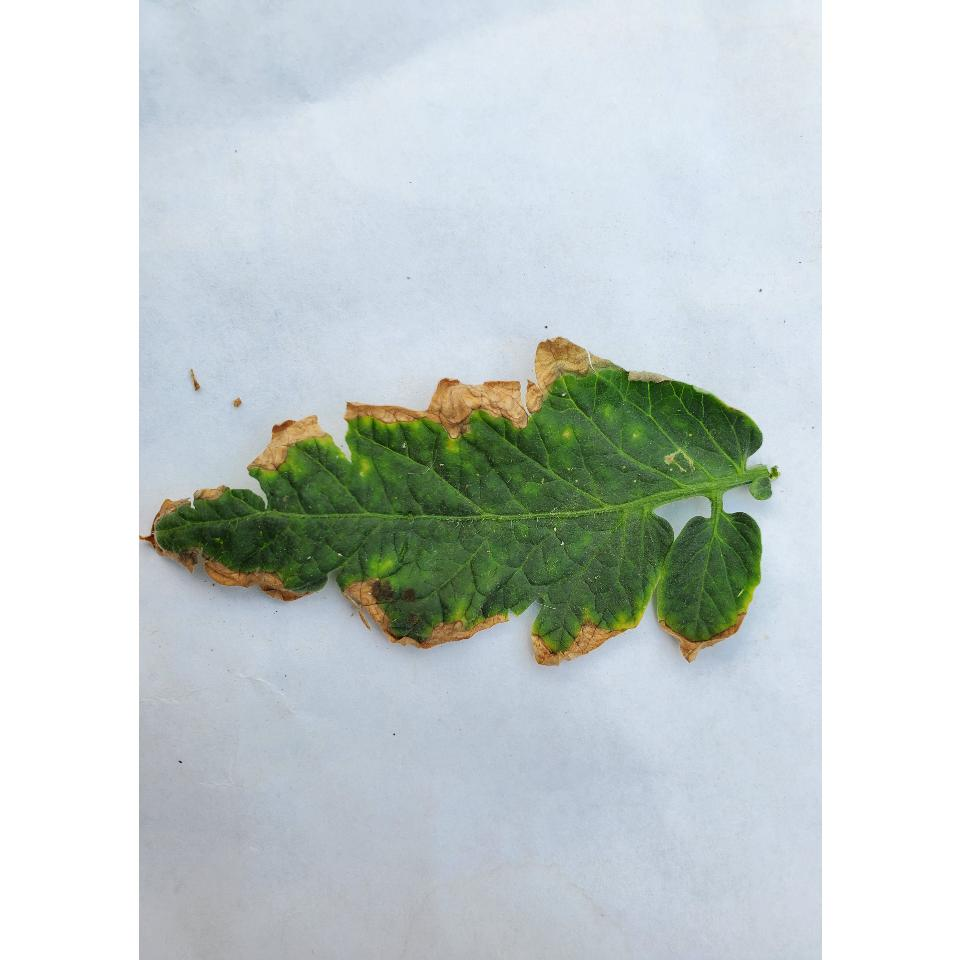tomato_bacterial_blight: (153, 340, 804, 652)
